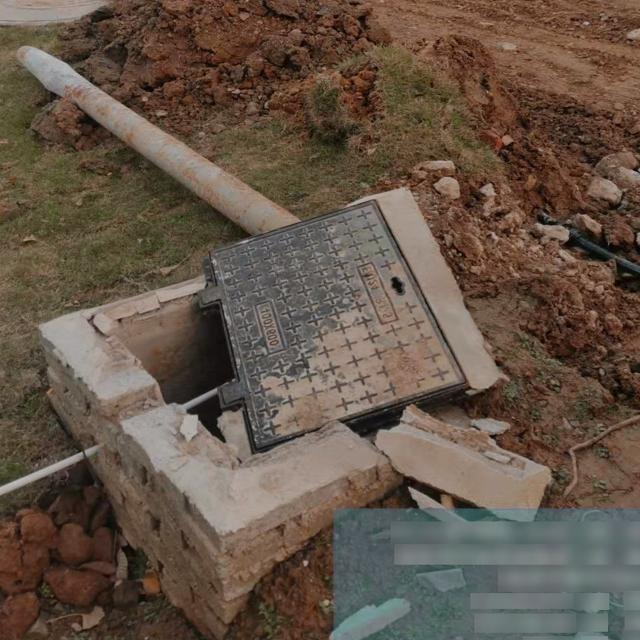circle: (70, 183, 536, 511)
